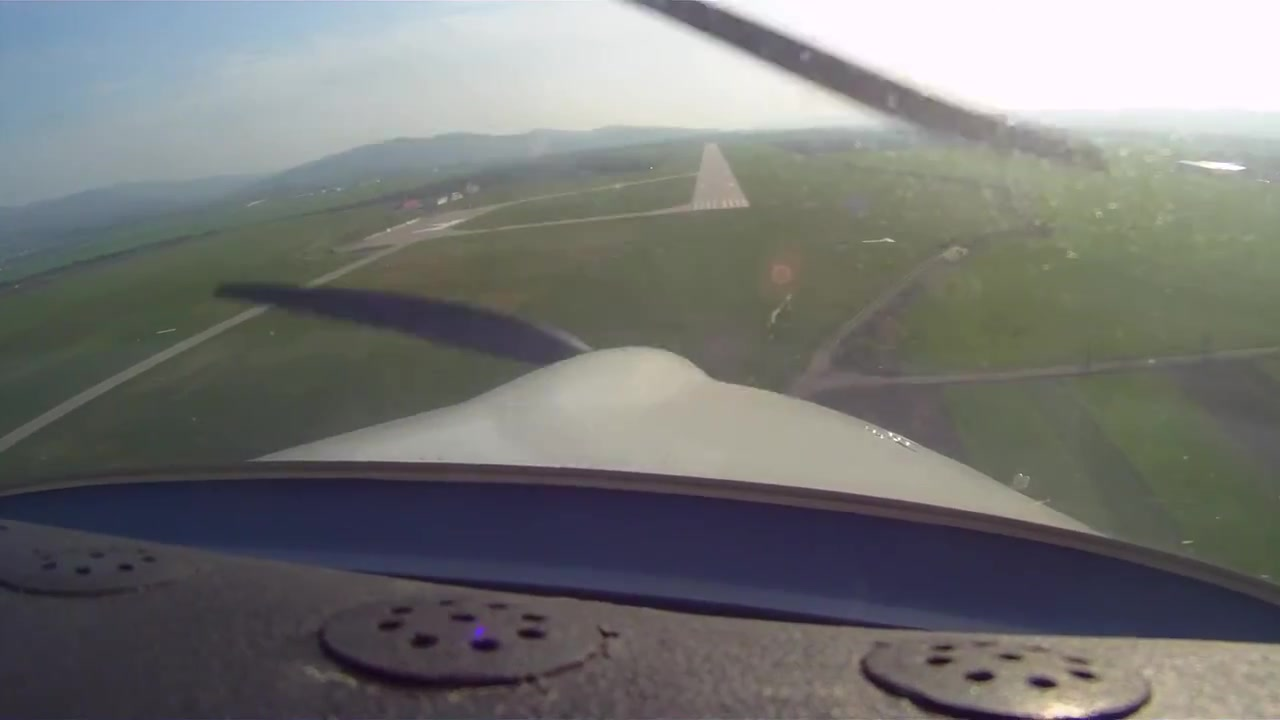entrance: (693, 199, 747, 210)
runway: (689, 143, 750, 213)
